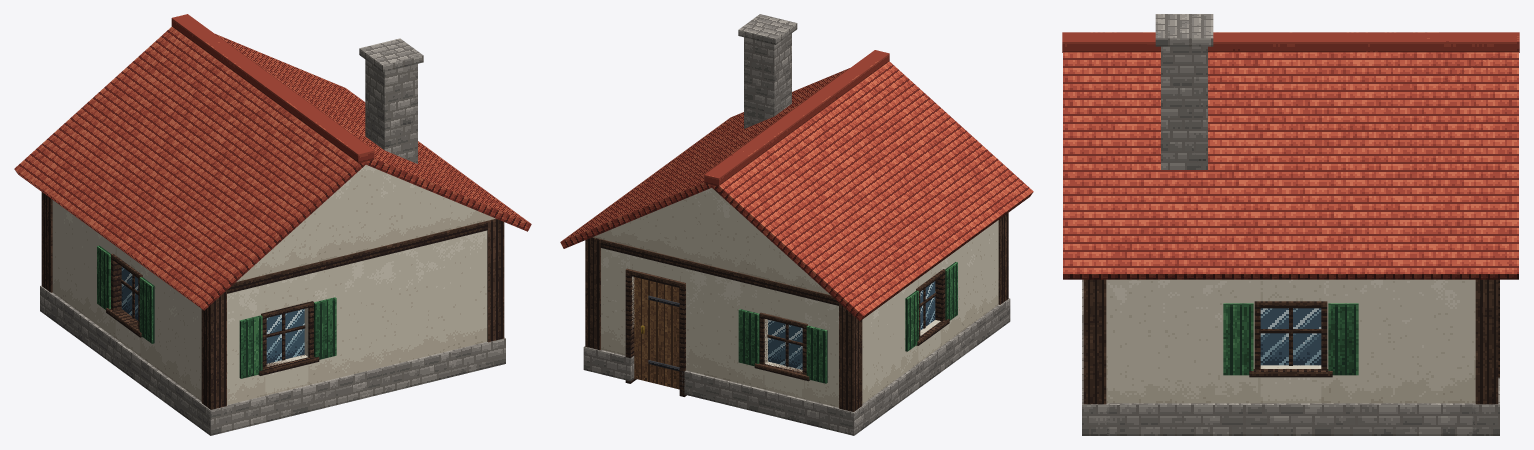
Rendered from house_plaster.glb.
3 renders of one model, left to right at view 1: azimuth 30°, elevation 25°; view 2: azimuth 150°, elevation 25°; view 3: azimuth 270°, elevation 25°, orthographic. The views are drawn at different scales.
Visible parts, largest first — view 1: house_plaster; view 2: house_plaster; view 3: house_plaster.
Boxes of the visible parts, left/top/right/bottom form: house_plaster: left=14, top=14, right=531, bottom=435; house_plaster: left=560, top=14, right=1033, bottom=435; house_plaster: left=1062, top=14, right=1519, bottom=435.
Bounding box in the file's own units: 6.17 × 5.37 × 6.02.
8 materials, 8 textured.
